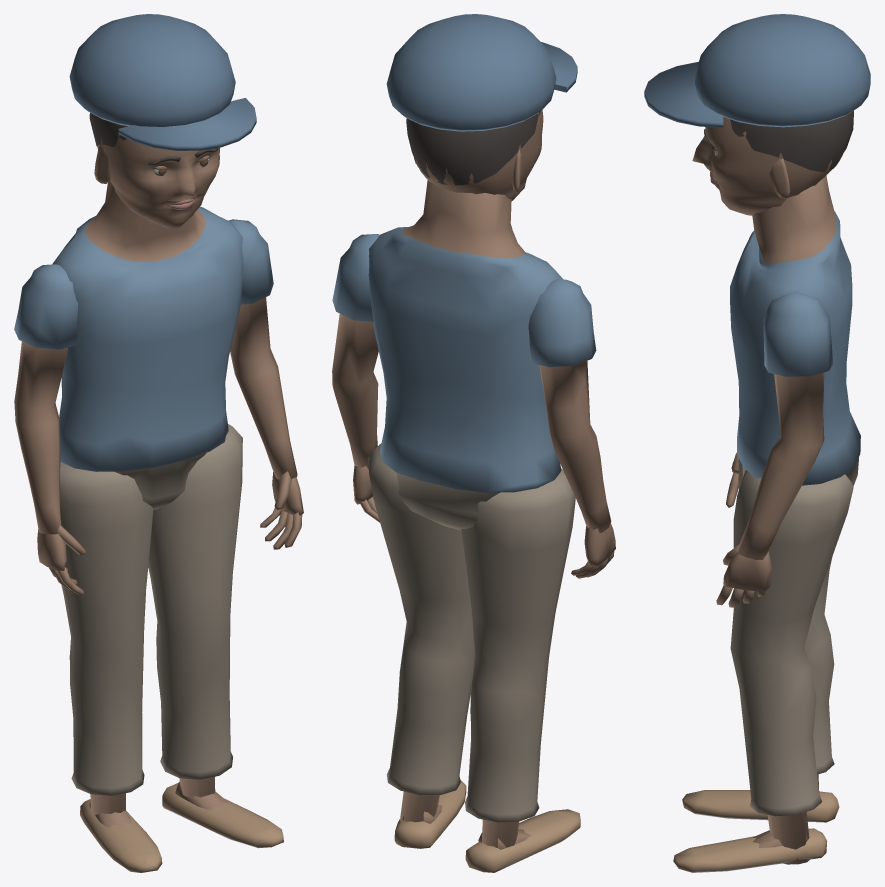
The model's file is people-4.glb.
3 renders of one model, left to right at view 1: azimuth 30°, elevation 25°; view 2: azimuth 150°, elevation 25°; view 3: azimuth 270°, elevation 25°, orthographic. The views are drawn at different scales.
Visible parts, largest first — view 1: vendor_body, arm_wave_mesh; view 2: vendor_body, arm_wave_mesh; view 3: vendor_body.
Boxes of the visible parts, left/top/right/bottom form: vendor_body: left=52, top=14, right=303, bottom=872; arm_wave_mesh: left=14, top=264, right=85, bottom=595; vendor_body: left=332, top=14, right=580, bottom=872; arm_wave_mesh: left=528, top=279, right=615, bottom=578; vendor_body: left=644, top=14, right=870, bottom=872.
Bounding box in the file's own units: 0.5552 × 1.67 × 0.4246.
